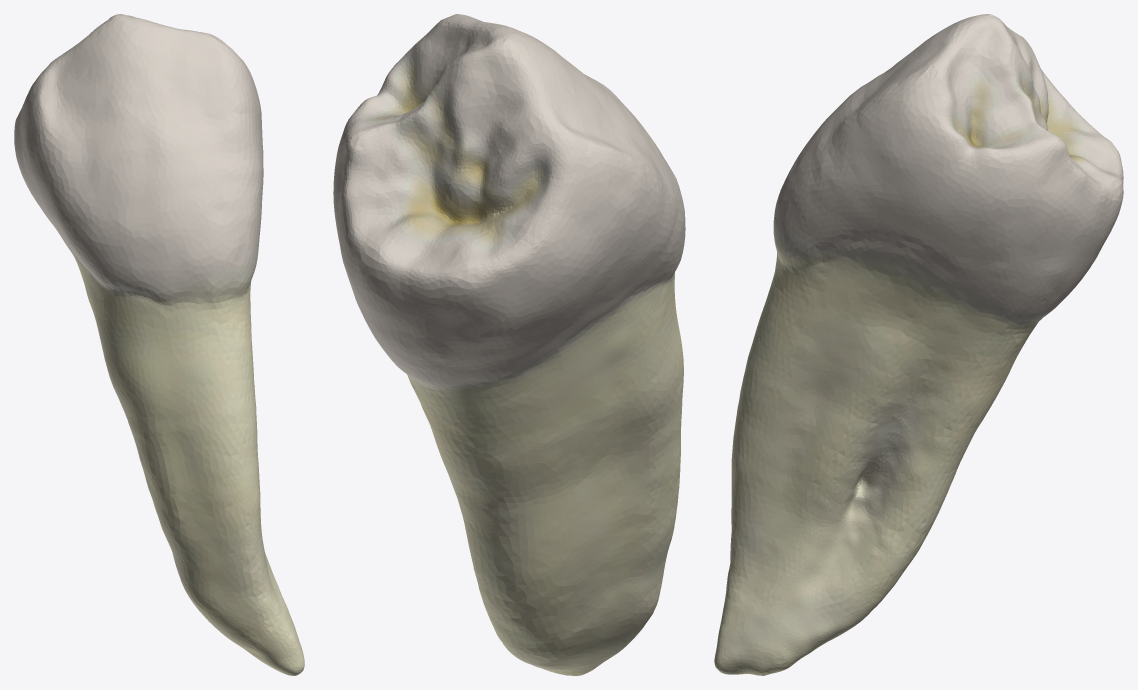
The model's file is 34 - primeiro premolar inferior esquerdo - quiz 2.glb.
3 views of the same model, side by side, from view 1: azimuth 30°, elevation 25°; view 2: azimuth 150°, elevation 25°; view 3: azimuth 270°, elevation 25° (orthographic). The views are drawn at different scales.
Parts seen in each view (by area): view 1: 3MFMeshParent_0; view 2: 3MFMeshParent_0; view 3: 3MFMeshParent_0.
Part boxes in pixels (x1,y1,x2,y2): 3MFMeshParent_0: (14,14,304,675); 3MFMeshParent_0: (333,14,685,675); 3MFMeshParent_0: (714,14,1123,675).
Bounding box in the file's own units: 0.1937 × 0.5046 × 0.2965.
Materials: 1 (1 with a texture image).
